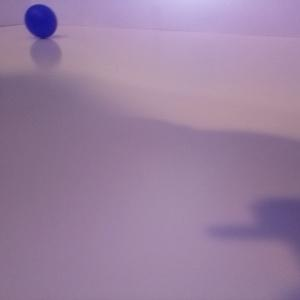dead_ball: (23, 3, 58, 39)
